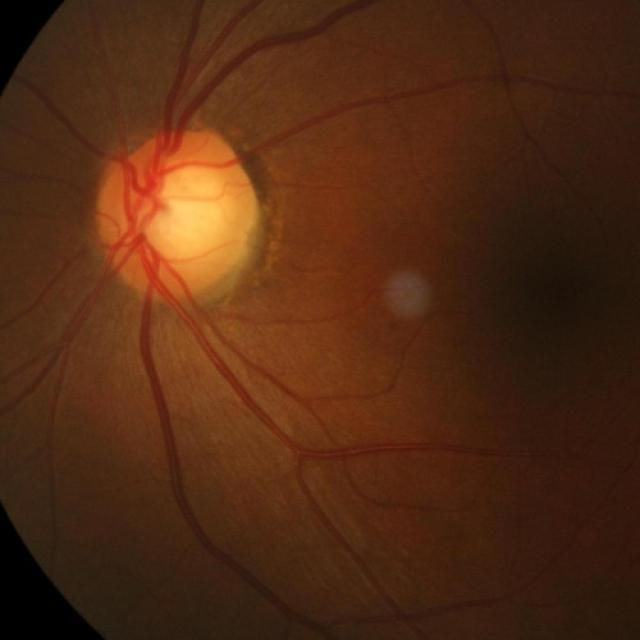OC: (157, 179, 220, 253)
OD: (98, 128, 262, 300)
